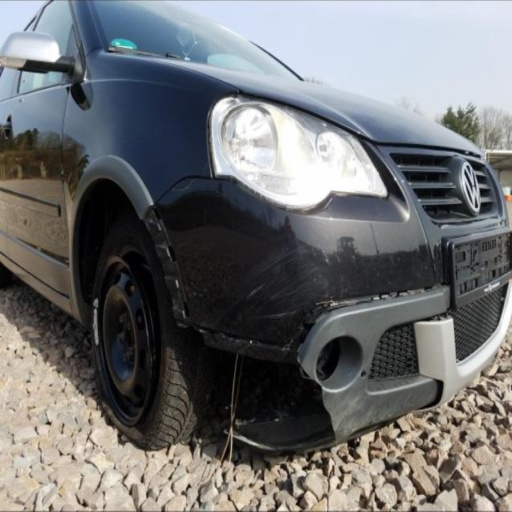scratch: (257, 246, 329, 273), (268, 271, 329, 299), (252, 305, 303, 324), (243, 278, 271, 304), (314, 295, 338, 310)
